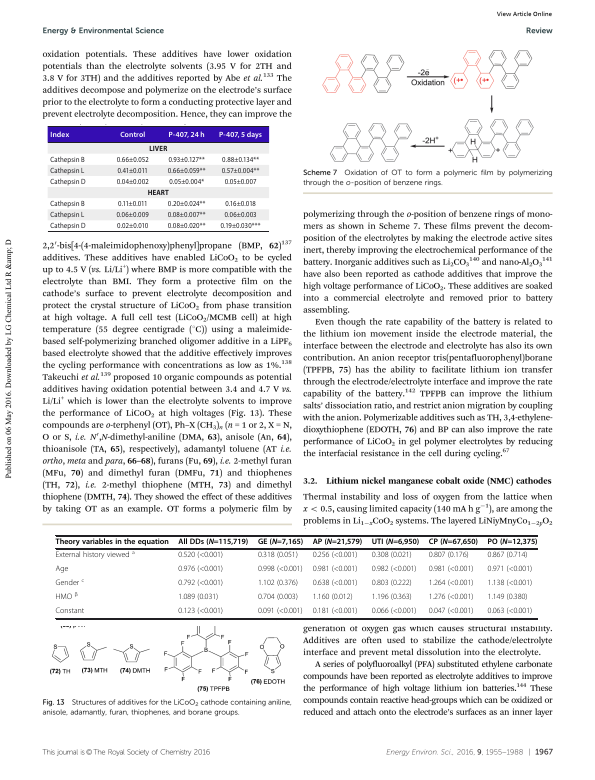borderless: (54, 534, 537, 618), (48, 124, 269, 231)
cell: (55, 538, 170, 547), (54, 549, 136, 561), (177, 538, 249, 547), (177, 551, 224, 561), (177, 565, 224, 575), (486, 565, 533, 575), (177, 579, 224, 589), (486, 579, 533, 589), (177, 607, 224, 617), (486, 607, 533, 617), (486, 538, 538, 547), (312, 551, 358, 561), (257, 565, 303, 575), (312, 565, 358, 575), (371, 565, 417, 575), (428, 565, 474, 575), (312, 579, 358, 589), (428, 579, 474, 589), (428, 593, 474, 603), (257, 607, 303, 617), (312, 607, 358, 617), (371, 607, 417, 617), (428, 607, 474, 617), (312, 538, 363, 547), (428, 538, 479, 547), (371, 538, 420, 547), (257, 538, 304, 547), (257, 551, 299, 561), (371, 551, 413, 561), (428, 551, 470, 561), (486, 551, 528, 561), (257, 579, 299, 589), (371, 579, 413, 589), (177, 593, 219, 603), (257, 593, 299, 603), (371, 593, 413, 603), (486, 593, 528, 603), (312, 593, 353, 603), (218, 130, 263, 139), (219, 222, 261, 231), (55, 577, 85, 589), (167, 155, 206, 164), (221, 155, 260, 164), (167, 166, 206, 175), (221, 166, 260, 175), (167, 200, 206, 209), (167, 211, 206, 220), (167, 222, 206, 231), (168, 130, 206, 139), (49, 155, 86, 164), (49, 177, 86, 186), (168, 177, 205, 186), (49, 200, 86, 209), (49, 222, 86, 231), (49, 166, 85, 175), (49, 211, 85, 220), (115, 211, 150, 220), (223, 211, 258, 220), (116, 155, 150, 164), (116, 177, 150, 186), (55, 607, 85, 617), (116, 166, 149, 175), (224, 177, 257, 186), (224, 200, 257, 209), (116, 222, 149, 231), (55, 591, 79, 603), (117, 200, 148, 209), (119, 130, 146, 139), (49, 130, 70, 139), (147, 189, 170, 196), (148, 144, 168, 151), (55, 565, 69, 575)
